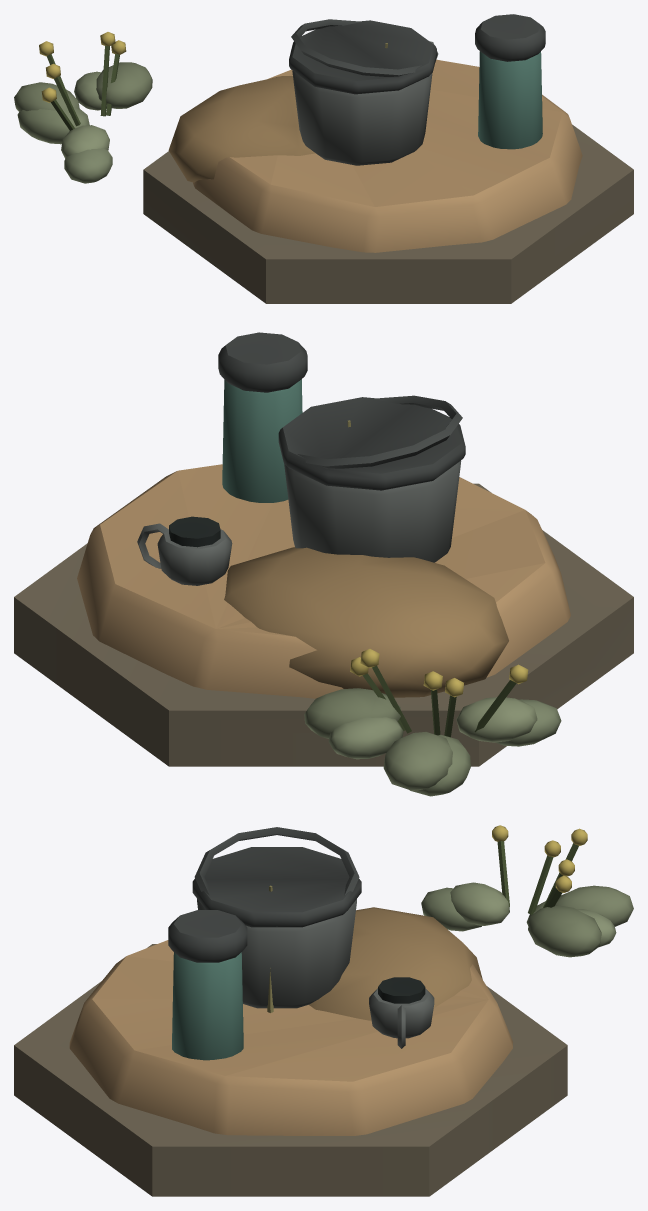
The model's file is lunch_pail_c.glb.
The picture shows the model from 3 angles, top to bottom: view 1: azimuth 30°, elevation 25°; view 2: azimuth 150°, elevation 25°; view 3: azimuth 270°, elevation 25°; orthographic projection. The views are drawn at different scales.
Parts seen in each view (by area): view 1: Surface; view 2: Surface; view 3: Surface.
Boxes of the visible parts, left/top/right/bottom form: Surface: left=14, top=14, right=633, bottom=303; Surface: left=14, top=332, right=633, bottom=796; Surface: left=14, top=825, right=633, bottom=1196.
Size of the model in its own units: 3.09 by 1.31 by 3.36.
